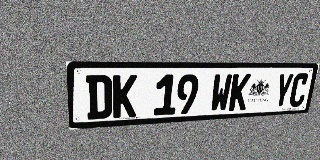1: (154, 74, 178, 116)
9: (176, 74, 199, 114)
C: (288, 73, 310, 107)
D: (86, 75, 112, 120)
K: (113, 75, 137, 118), (228, 74, 251, 111)
W: (209, 74, 233, 112)
Y: (272, 73, 294, 108)
